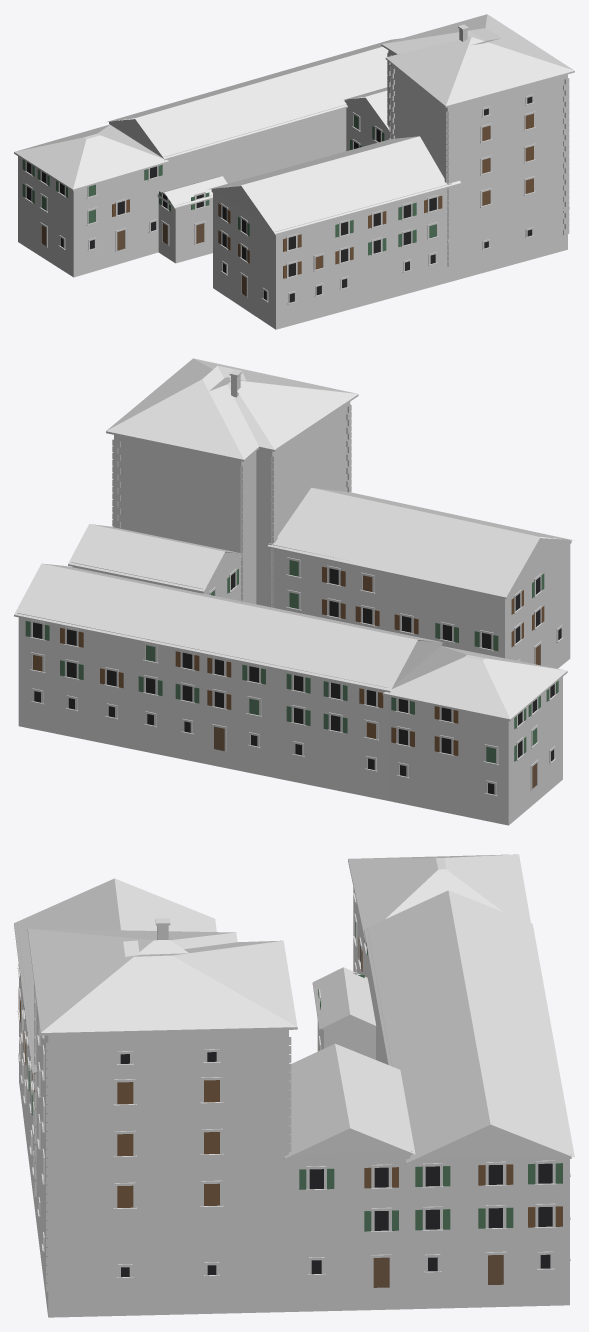
The model's file is novi.glb.
The picture shows the model from 3 angles, top to bottom: view 1: azimuth 30°, elevation 25°; view 2: azimuth 150°, elevation 25°; view 3: azimuth 270°, elevation 25°; orthographic projection. The views are drawn at different scales.
Visible parts, largest first — view 1: novi_LOD0; view 2: novi_LOD0; view 3: novi_LOD0.
Part boxes in pixels (box(x1,y1,x2,y2)): novi_LOD0: box(14, 14, 574, 329); novi_LOD0: box(14, 358, 574, 825); novi_LOD0: box(14, 854, 574, 1317).
Size of what is drawn, in the model's own units: 48.05 by 23.79 by 35.3.
